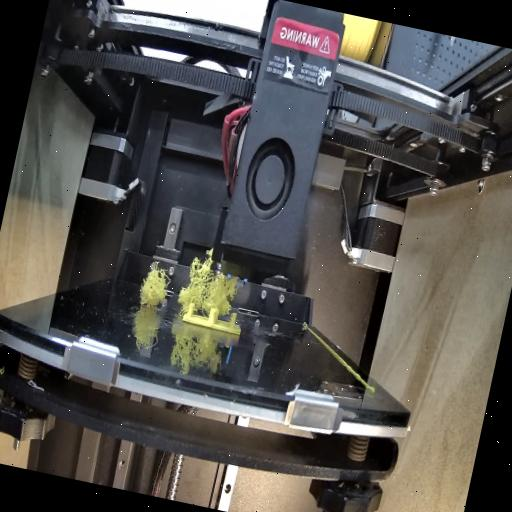spaghetti: (180, 252, 240, 315), (134, 258, 176, 312)
